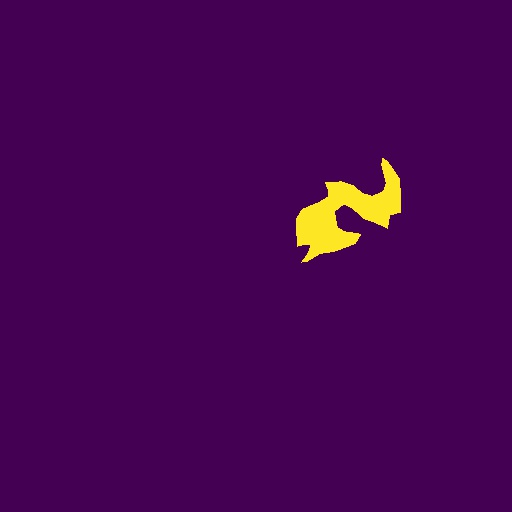Gliomia_tumour: (296, 158, 401, 263)
